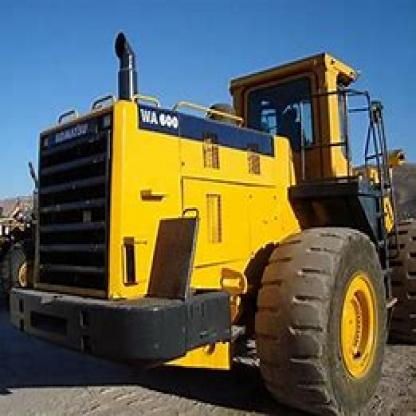bull_dozer/loader/grader: (27, 41, 415, 403)
